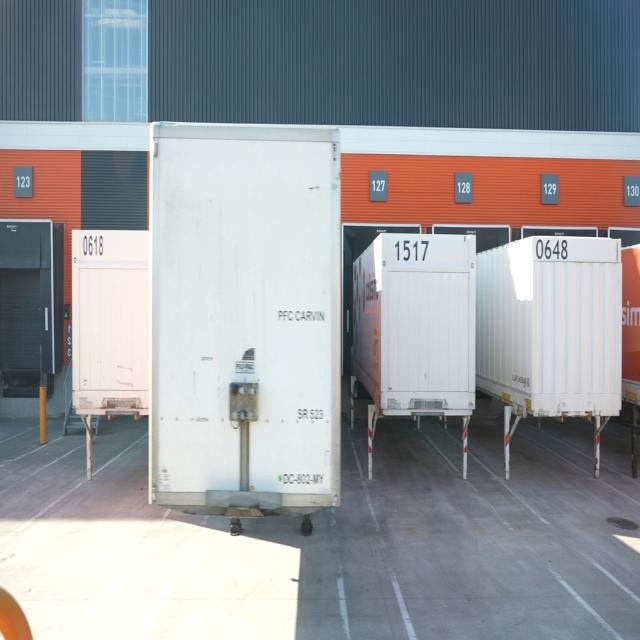Code: (534, 233, 570, 264), (391, 238, 432, 265), (80, 231, 109, 264)
